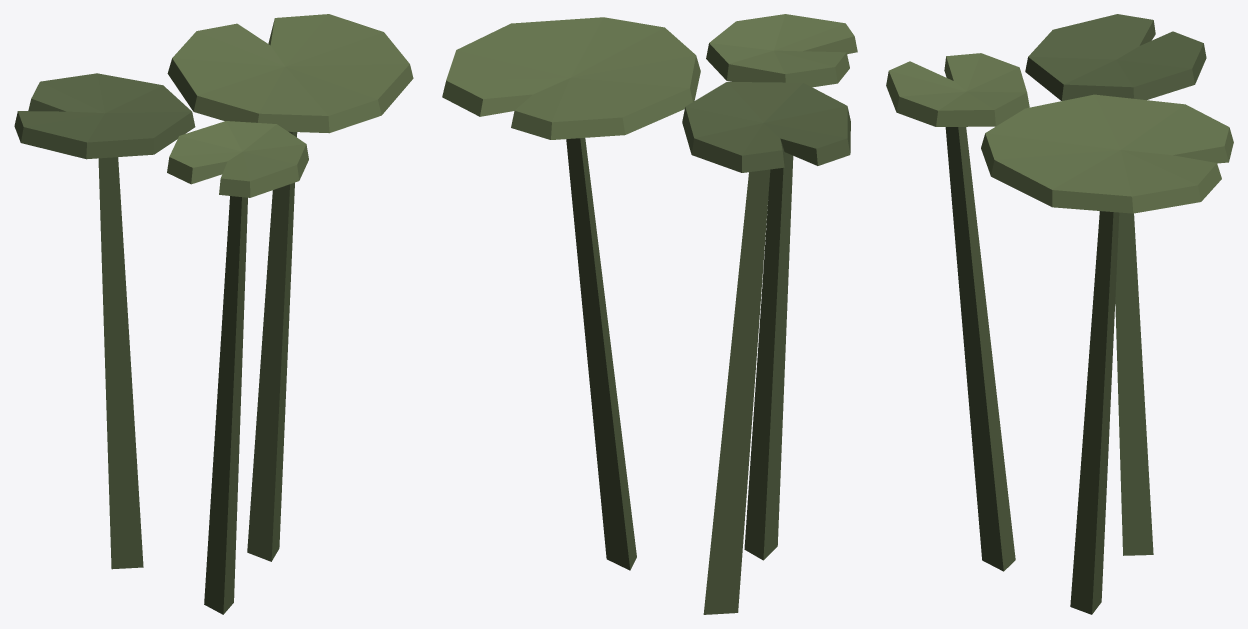
File: env_lily.gltf
The picture shows the model from 3 angles, left to right: view 1: azimuth 30°, elevation 25°; view 2: azimuth 150°, elevation 25°; view 3: azimuth 270°, elevation 25°; orthographic projection. The views are drawn at different scales.
Visible parts, largest first — view 1: env_lily; view 2: env_lily; view 3: env_lily.
Part boxes in pixels (left/top/right/bottom): env_lily: left=14, top=14, right=413, bottom=614; env_lily: left=442, top=14, right=857, bottom=614; env_lily: left=886, top=14, right=1233, bottom=614.
Size of the model in its own units: 0.9498 by 1.15 by 0.7528.
Materials: 1 (1 with a texture image).
